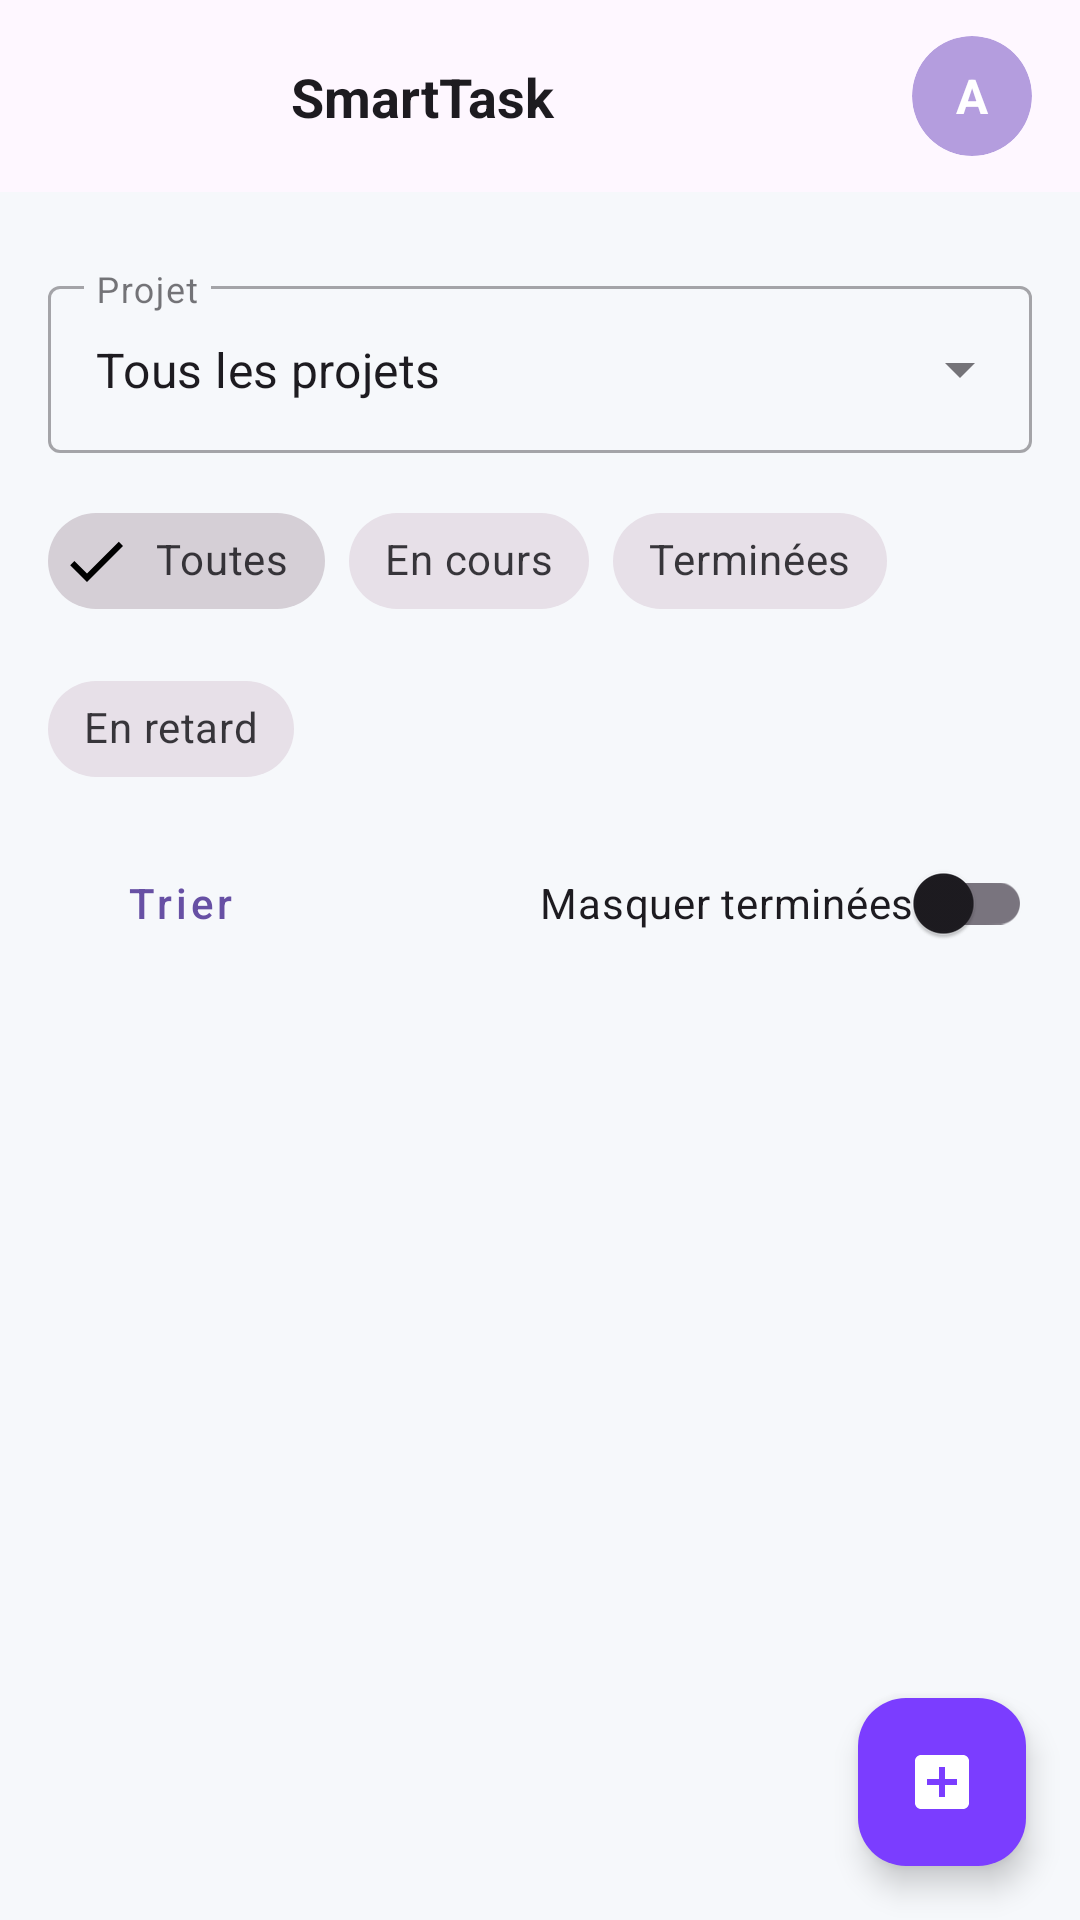

Icon click points for this 1080 x 1920 phone screenshot, format point (x, y):
Ajouter tâche: point (942, 1782)
